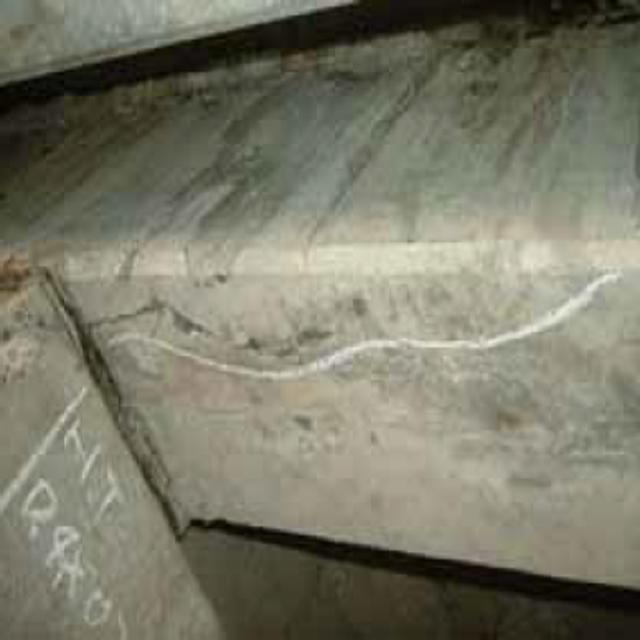crack: (87, 301, 393, 370)
